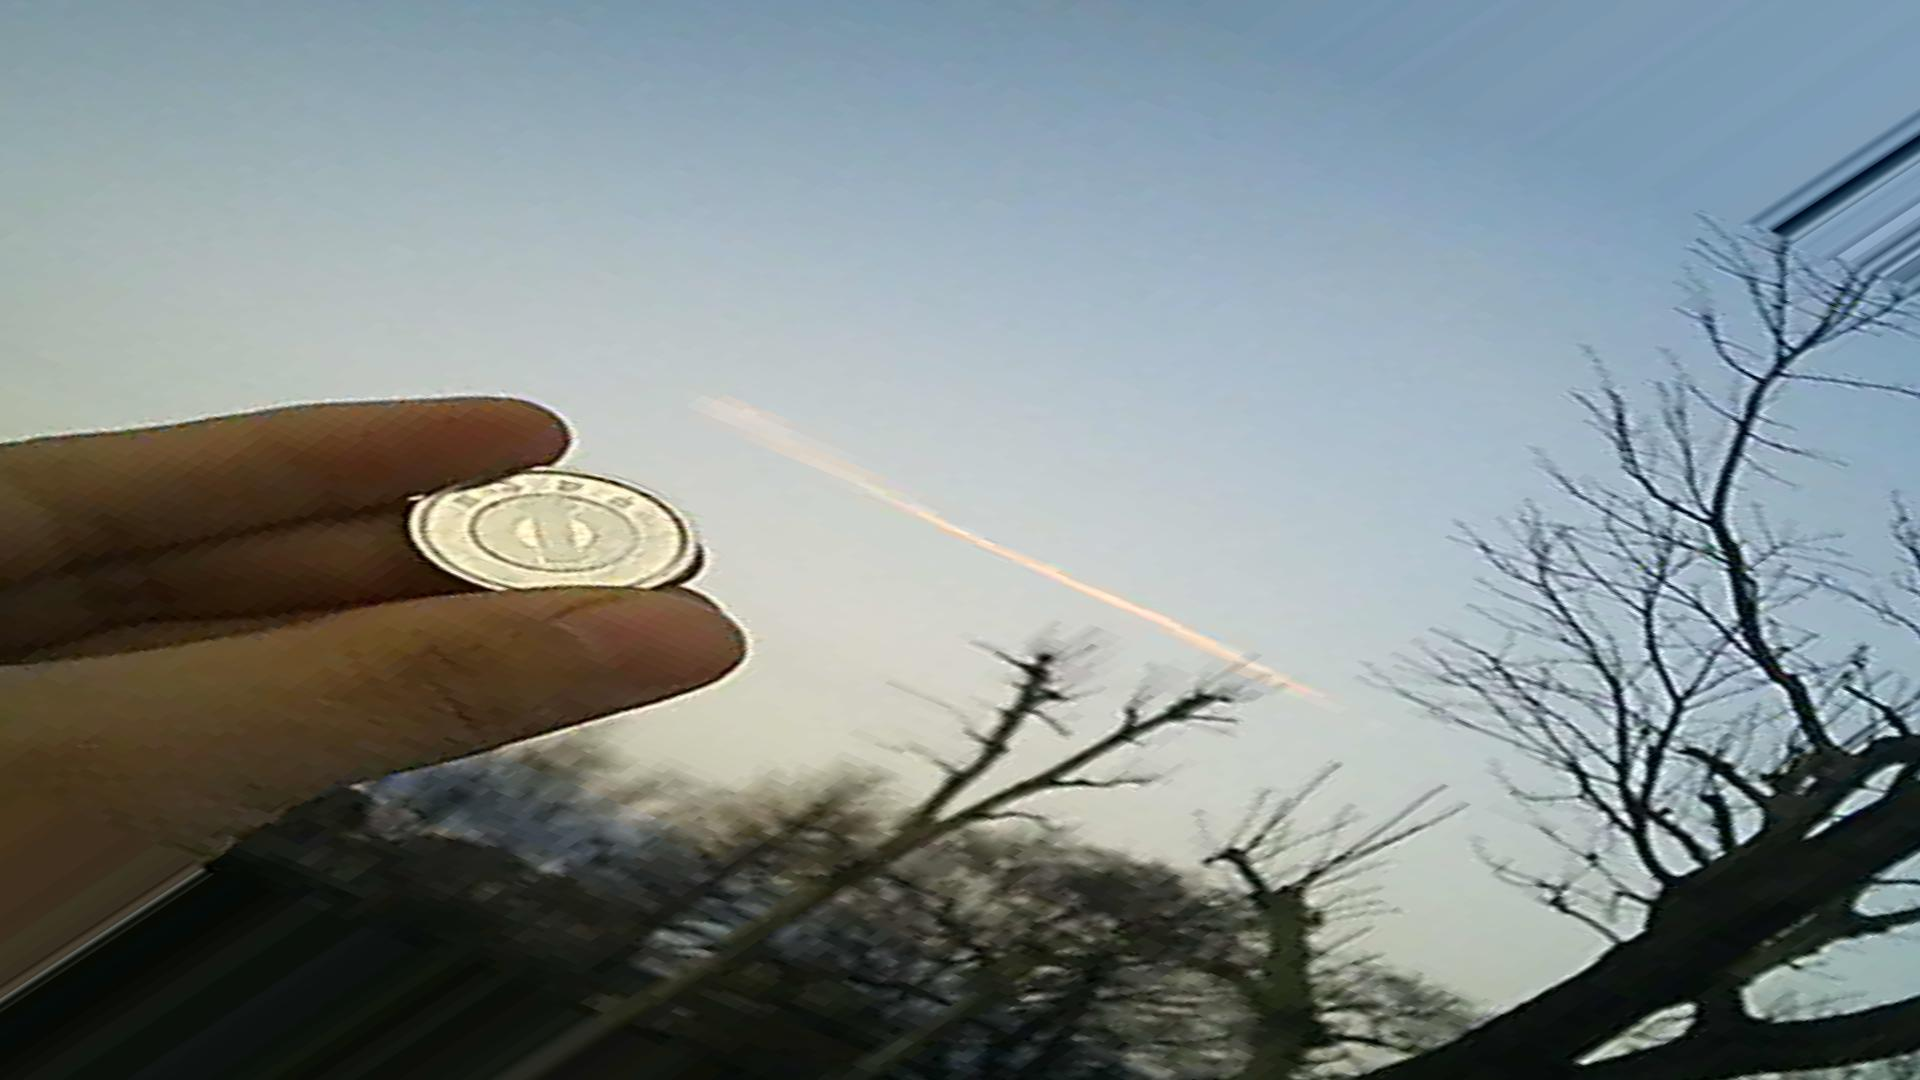1 Yen: (405, 447, 715, 613)
